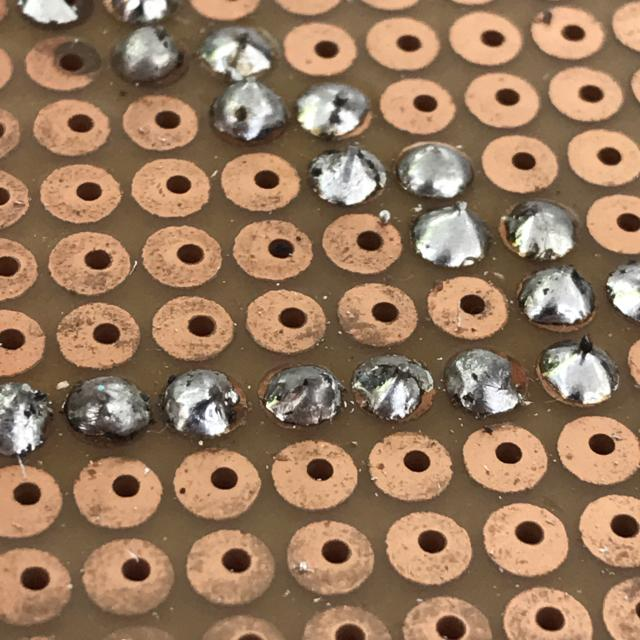good: (406, 198, 496, 274)
pad_less: (154, 359, 258, 450), (436, 339, 539, 424), (346, 348, 443, 433), (253, 357, 350, 438), (512, 261, 604, 340), (534, 335, 624, 415), (494, 196, 586, 266), (390, 135, 480, 204), (292, 78, 377, 146)
